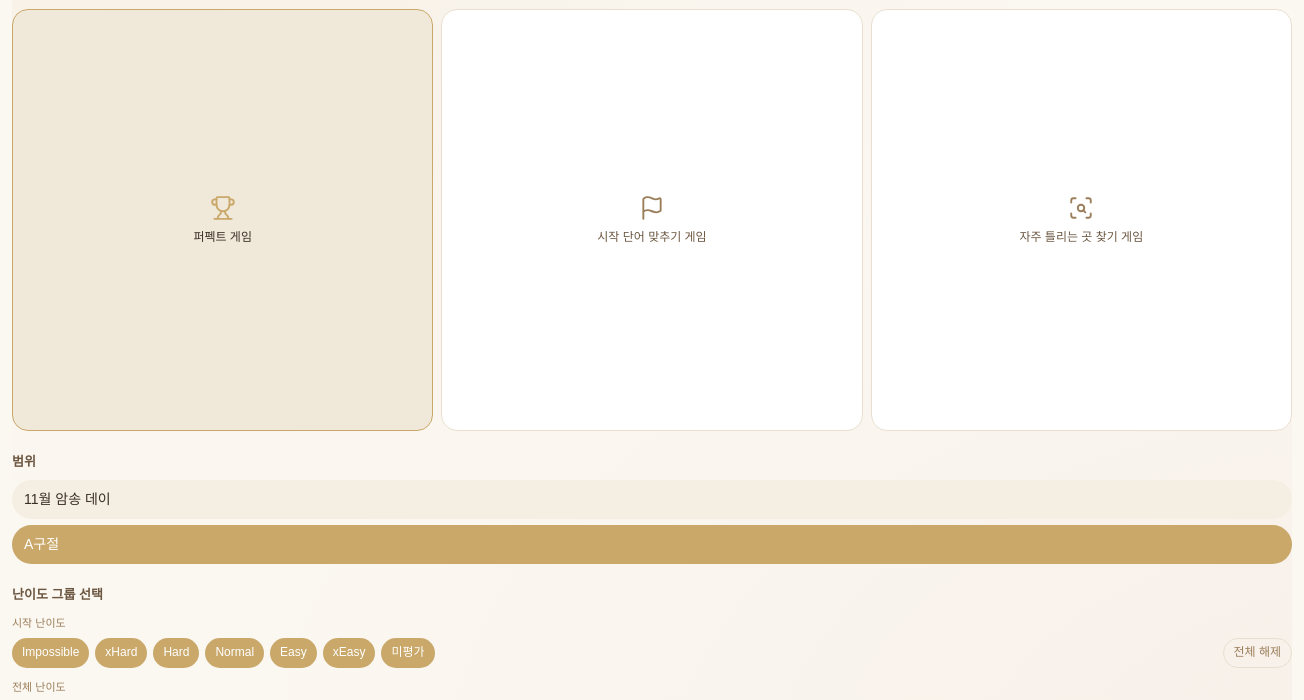
QuizScopePicker — 범위 › says it was the chips when the range itself has verses
The width and height of the screenshot is (1304, 700).
Click the button "미평가".
click(408, 653)  # box [381,638,434,668]
(page scrolled)
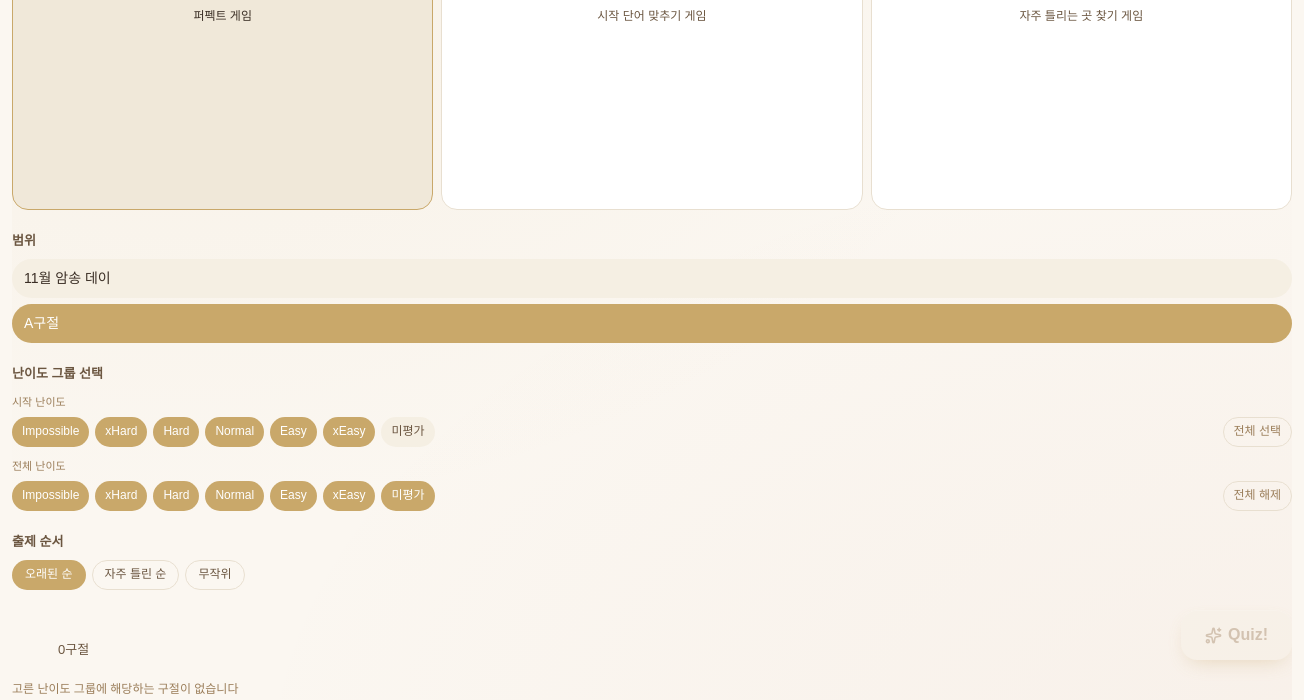
Expected: the text "고른 난이도 그룹에 해당하는 구절이 없습니다" is shown, [12,682,238,696]
